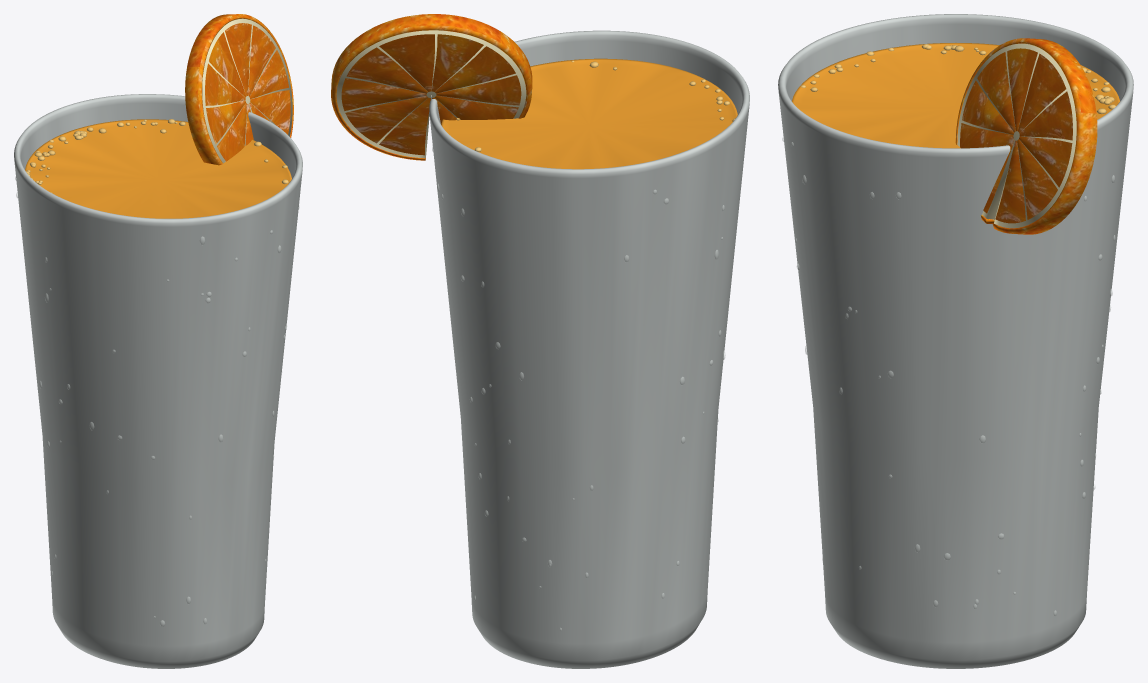
File: suco-natural.glb
3 renders of one model, left to right at view 1: azimuth 30°, elevation 25°; view 2: azimuth 150°, elevation 25°; view 3: azimuth 270°, elevation 25°, orthographic. The views are drawn at different scales.
Visible parts, largest first — view 1: Copo_de_vidro_de_fundo_pesado002, Suco_recém-espremido, Vesículas_dos_gomos001, Epicarpo_do_cítrico001, Albedo_e_membranas001, Espuma_da_laranja_espremida, Condensação_no_vidro_frio002; view 2: Copo_de_vidro_de_fundo_pesado002, Suco_recém-espremido, Vesículas_dos_gomos001, Epicarpo_do_cítrico001, Albedo_e_membranas001, Condensação_no_vidro_frio002; view 3: Copo_de_vidro_de_fundo_pesado002, Suco_recém-espremido, Vesículas_dos_gomos001, Epicarpo_do_cítrico001, Albedo_e_membranas001, Espuma_da_laranja_espremida, Condensação_no_vidro_frio002.
Boxes of the visible parts, <box> form: Copo_de_vidro_de_fundo_pesado002: <box>14,94,302,668</box>; Suco_recém-espremido: <box>25,119,291,218</box>; Vesículas_dos_gomos001: <box>205,23,290,161</box>; Epicarpo_do_cítrico001: <box>185,14,293,165</box>; Albedo_e_membranas001: <box>202,18,292,163</box>; Espuma_da_laranja_espremida: <box>26,119,288,193</box>; Condensação_no_vidro_frio002: <box>15,176,299,626</box>; Copo_de_vidro_de_fundo_pesado002: <box>429,30,749,668</box>; Suco_recém-espremido: <box>441,58,737,169</box>; Vesículas_dos_gomos001: <box>341,34,521,155</box>; Epicarpo_do_cítrico001: <box>331,14,532,160</box>; Albedo_e_membranas001: <box>336,30,526,158</box>; Condensação_no_vidro_frio002: <box>432,147,725,631</box>; Copo_de_vidro_de_fundo_pesado002: <box>778,14,1133,668</box>; Suco_recém-espremido: <box>792,43,1119,148</box>; Vesículas_dos_gomos001: <box>960,48,1072,223</box>; Epicarpo_do_cítrico001: <box>955,38,1097,234</box>; Albedo_e_membranas001: <box>957,43,1076,228</box>; Espuma_da_laranja_espremida: <box>801,44,1115,113</box>; Condensação_no_vidro_frio002: <box>782,137,1115,615</box>.
Bounding box in the file's own units: 0.091 × 0.158 × 0.08.
Materials: 7 (2 with a texture image).
